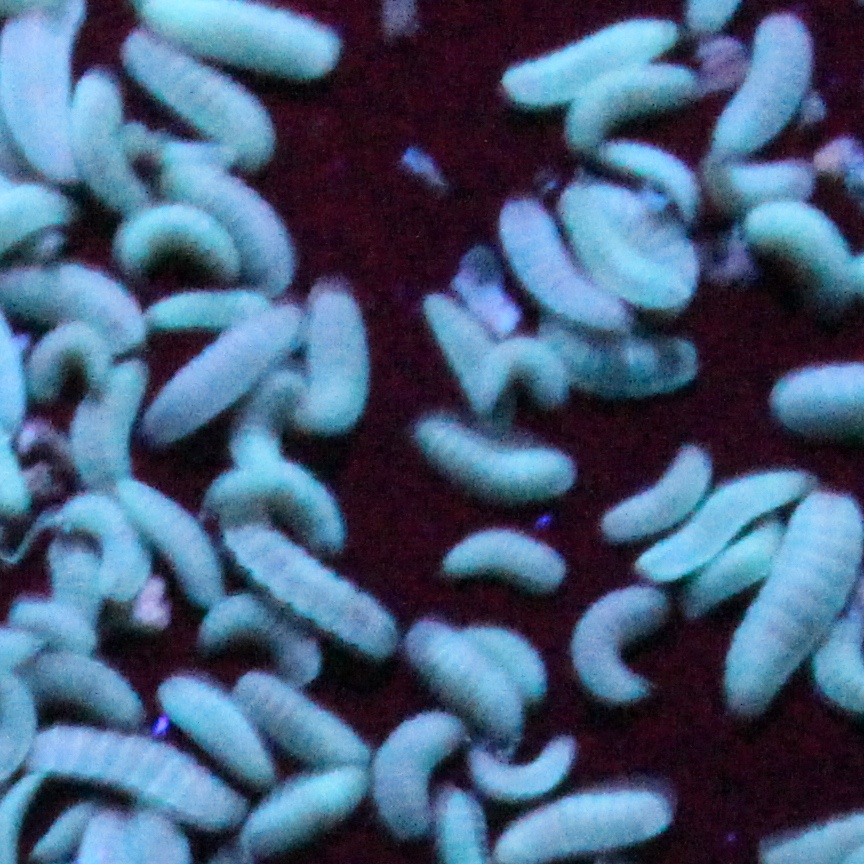larve: (725, 494, 858, 704), (35, 728, 227, 828), (237, 529, 392, 650), (126, 36, 271, 152), (147, 325, 293, 439), (419, 409, 580, 507), (174, 159, 301, 279), (662, 467, 801, 576), (498, 204, 619, 329), (714, 20, 826, 153), (140, 1, 334, 75), (503, 15, 673, 99), (531, 320, 690, 404), (119, 483, 226, 605), (237, 672, 374, 767), (409, 624, 524, 735), (741, 204, 861, 304), (168, 675, 271, 784), (573, 584, 660, 707), (71, 74, 148, 210), (247, 766, 369, 851), (566, 71, 701, 145), (300, 288, 369, 430), (205, 474, 344, 544), (602, 442, 704, 536), (65, 499, 151, 608), (207, 603, 320, 683), (13, 270, 134, 344), (434, 528, 566, 590), (430, 304, 506, 400), (37, 653, 141, 723), (86, 367, 145, 488), (116, 212, 239, 270), (383, 722, 447, 827), (227, 383, 303, 471), (41, 533, 99, 628), (28, 328, 110, 392), (471, 748, 571, 793), (155, 295, 269, 332), (41, 803, 86, 856)
